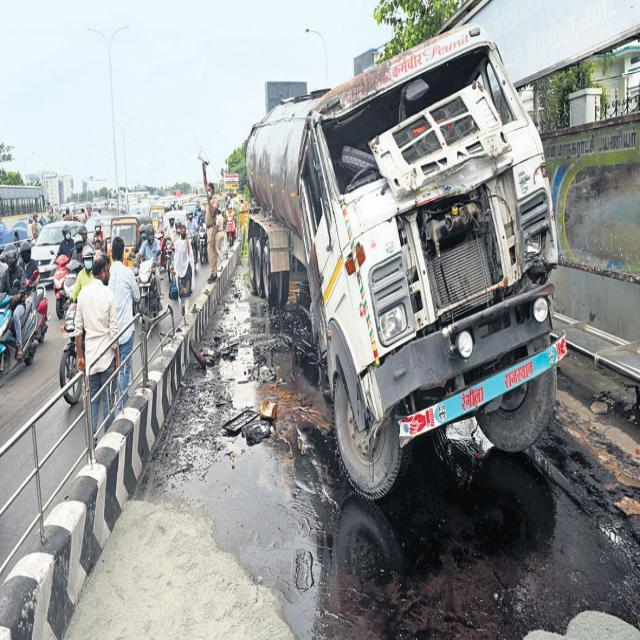accident: (248, 26, 564, 498)
autorickshaw: (110, 214, 153, 261)
bus: (1, 184, 48, 248)
car: (31, 221, 81, 283)
motorcycle: (59, 245, 95, 386), (0, 243, 36, 377), (21, 243, 48, 341), (139, 223, 161, 317), (54, 225, 74, 317), (65, 225, 88, 299), (198, 210, 209, 265), (226, 206, 236, 247), (64, 381, 81, 405)
